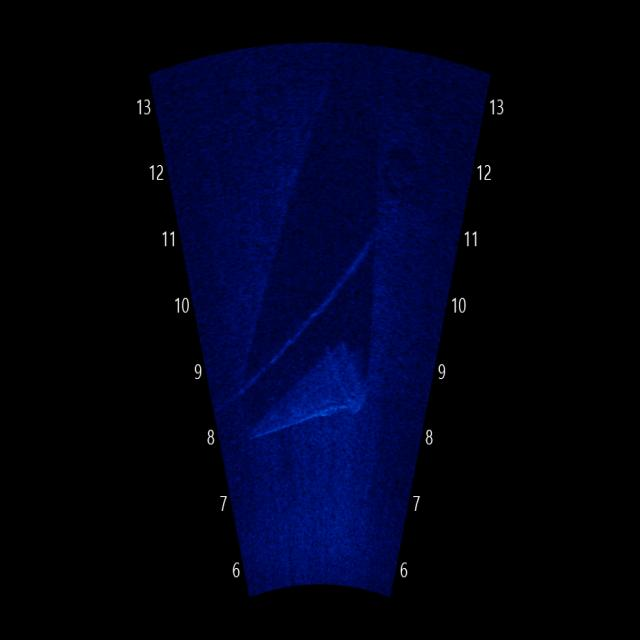circle: (376, 140, 425, 211), (250, 73, 287, 134)
triangle: (246, 332, 379, 448)
